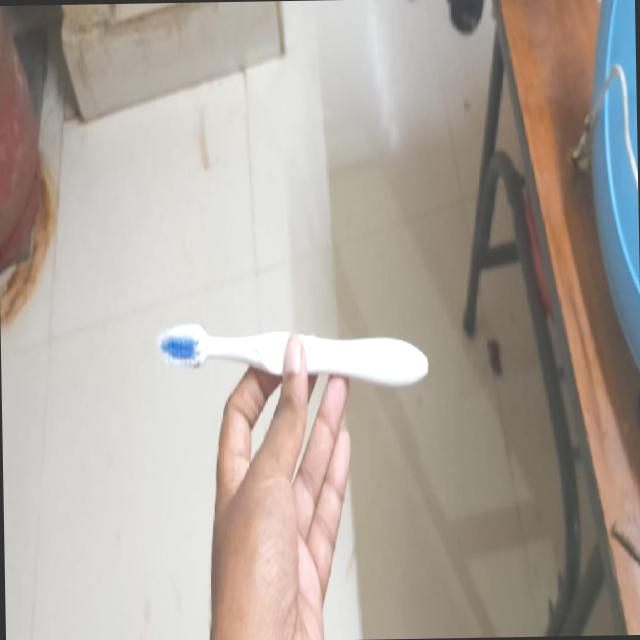Tooth_Brush - Non Recyclable: (144, 292, 438, 437)
